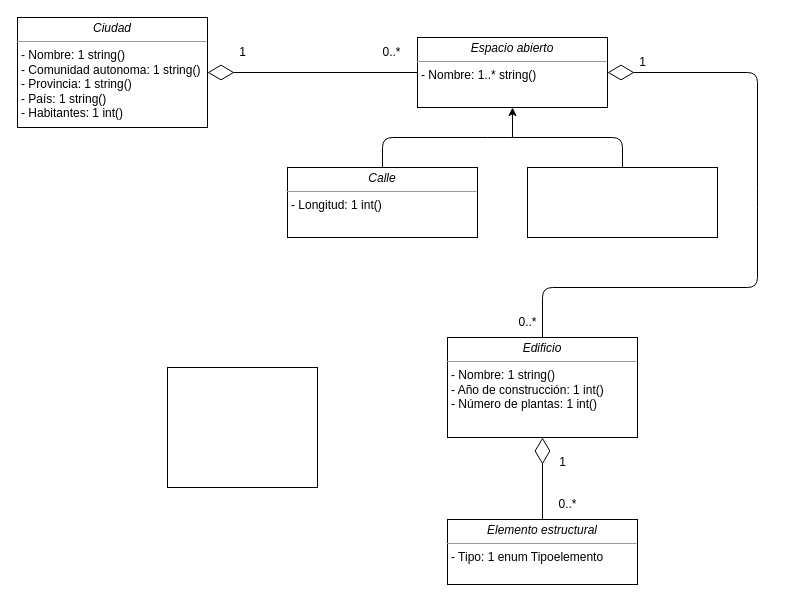
Image size: 801x602. Some labels were removed from this diagram. Here are the shapes that lost their labels. From the top down, the centre of each, then its label:
(x=622, y=202): Plaza - Superficie: 1 int()
(x=242, y=427): <<enumeration>> Tipoelemento Puerta Portada Ventana Balcón
